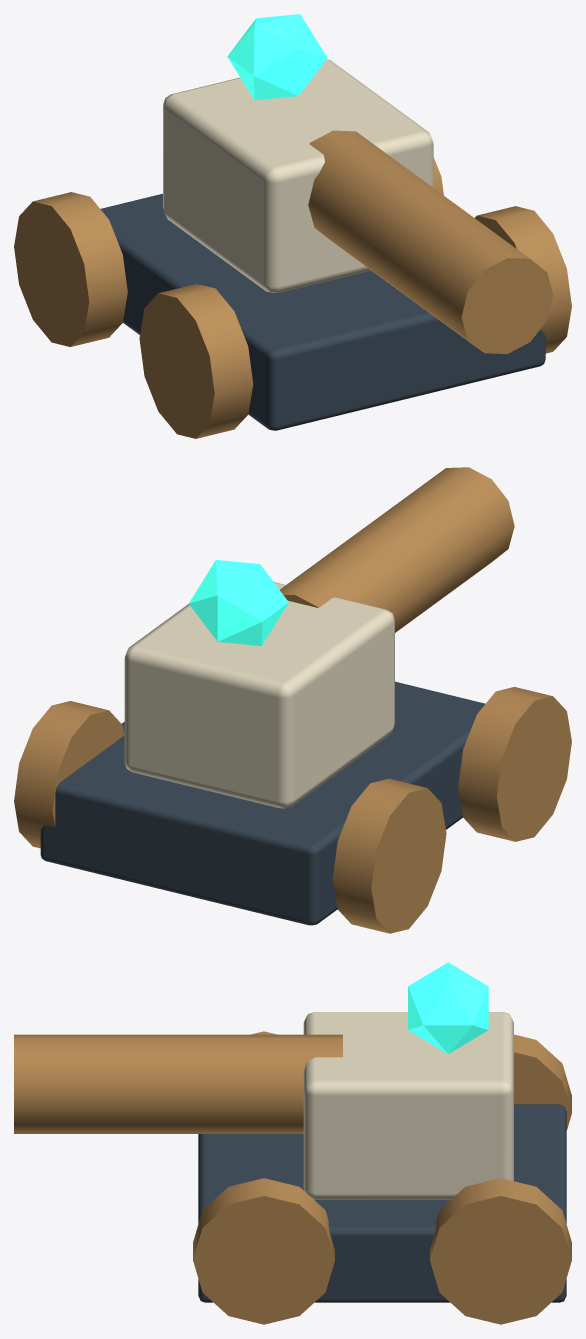
File: sunfall-rift-moba-siege-minion-1086ddf9__21990.glb
The picture shows the model from 3 angles, top to bottom: view 1: azimuth 30°, elevation 25°; view 2: azimuth 150°, elevation 25°; view 3: azimuth 270°, elevation 25°; orthographic projection. The views are drawn at different scales.
Parts seen in each view (by area): view 1: siege-minion; view 2: siege-minion; view 3: siege-minion.
Part boxes in pixels (x1,y1,x2,y2): siege-minion: [14, 14, 571, 438]; siege-minion: [14, 467, 571, 933]; siege-minion: [14, 962, 571, 1324].
Size of the model in its own units: 1.48 by 1.17 by 2.12.
